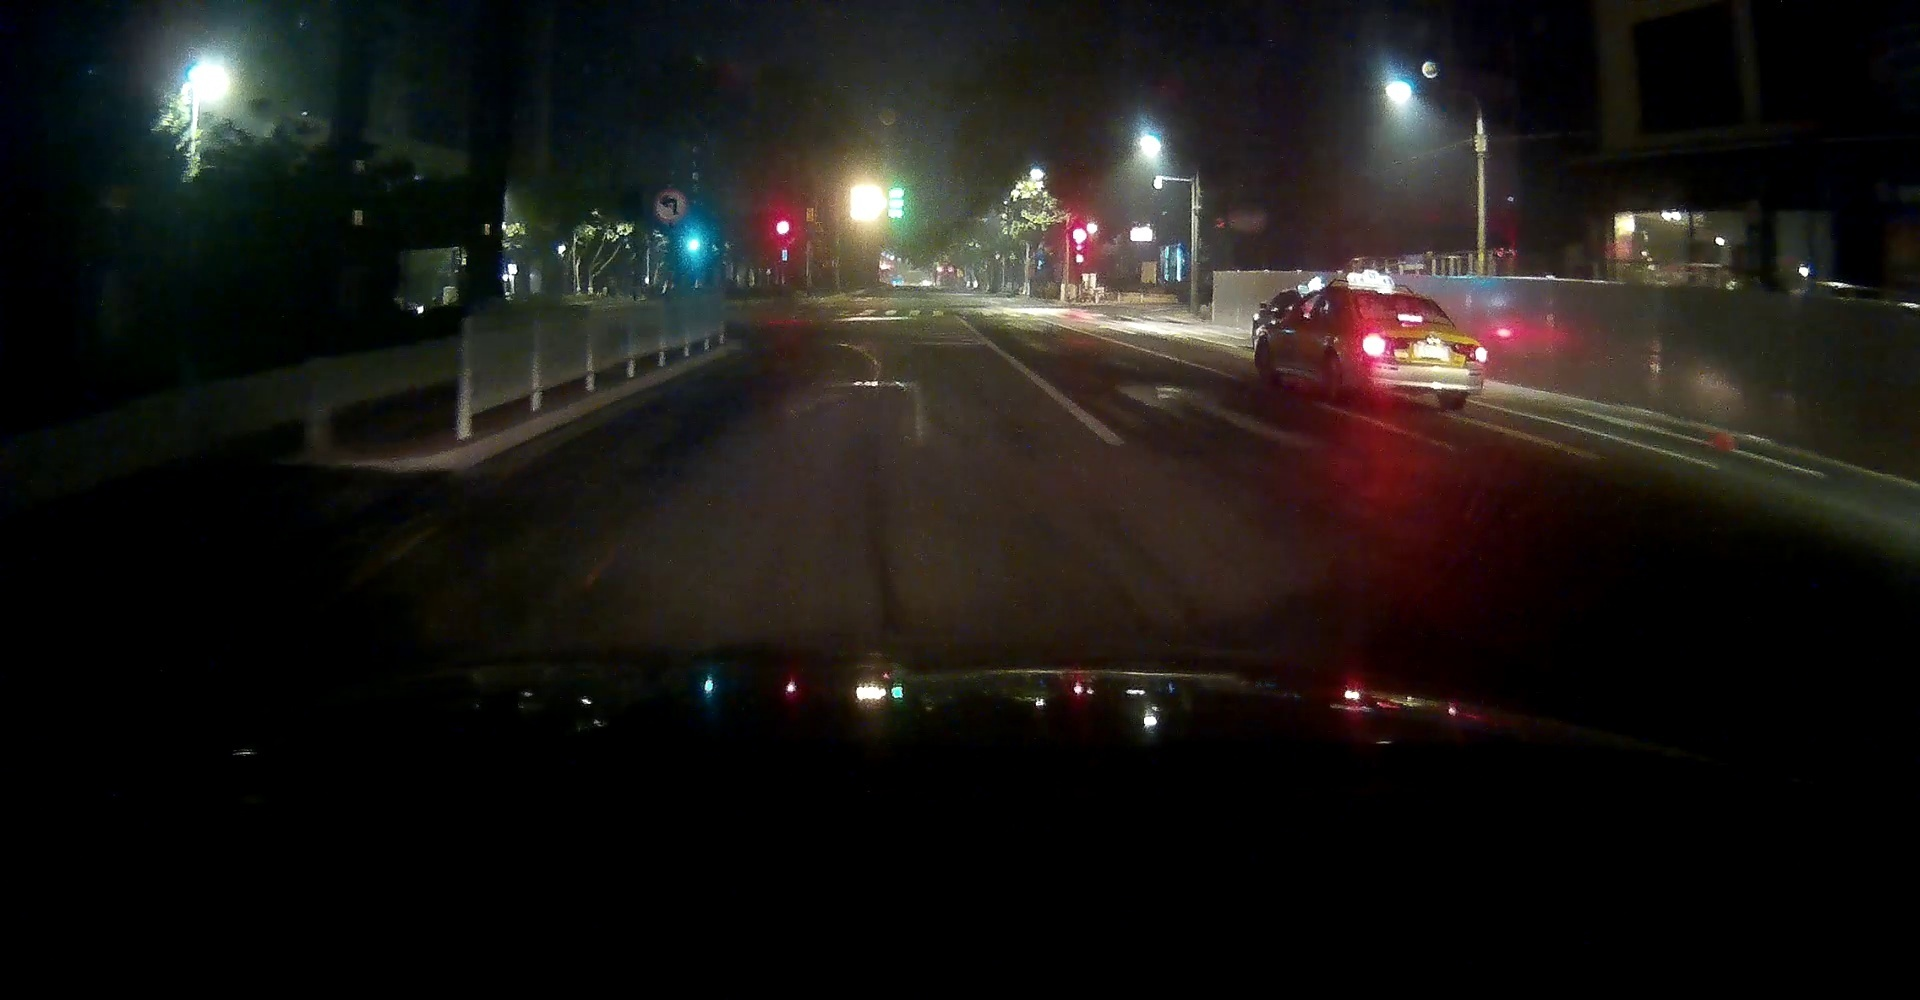L_light: (1360, 330, 1411, 359)
R_light: (1451, 341, 1488, 364)
T_light: (1396, 313, 1423, 324)
night-brake: (1347, 286, 1490, 411)
